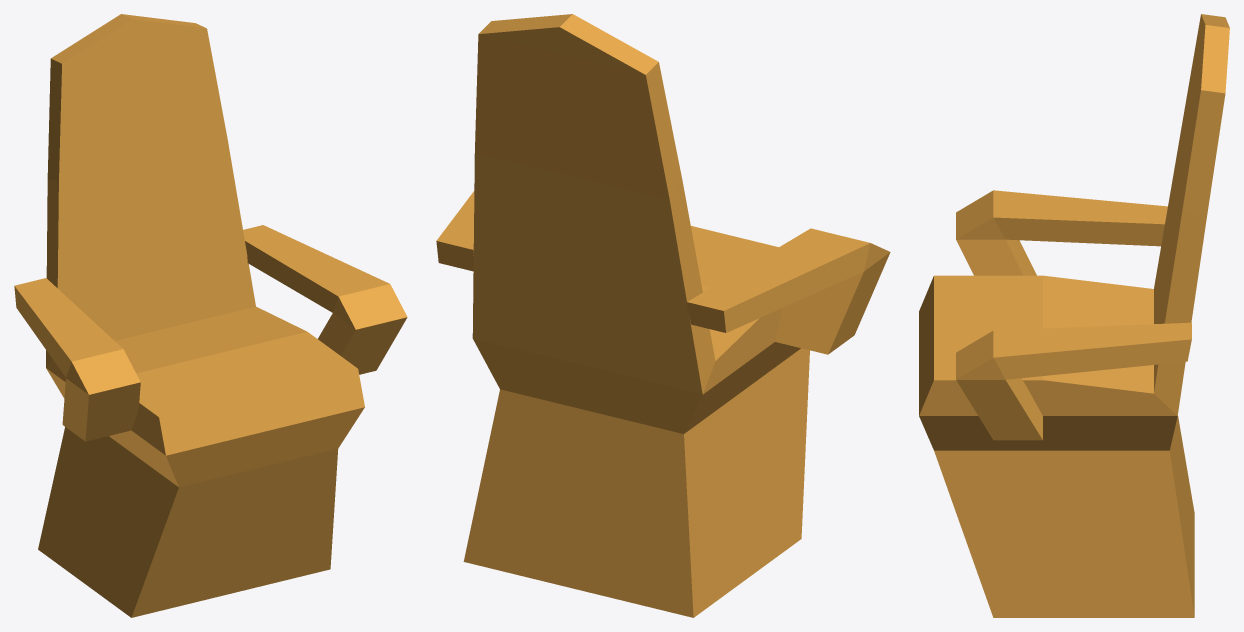
Rendered from scifi-scifi-chair.glb.
3 views of the same model, side by side, from view 1: azimuth 30°, elevation 25°; view 2: azimuth 150°, elevation 25°; view 3: azimuth 270°, elevation 25° (orthographic). The views are drawn at different scales.
Visible parts, largest first — view 1: scifi-chair; view 2: scifi-chair; view 3: scifi-chair.
Boxes of the visible parts, <box> form: scifi-chair: <box>14,14,407,617</box>; scifi-chair: <box>436,14,890,617</box>; scifi-chair: <box>919,14,1229,617</box>.
Size of the model in its own units: 0.7998 by 1.2 by 0.6278.
